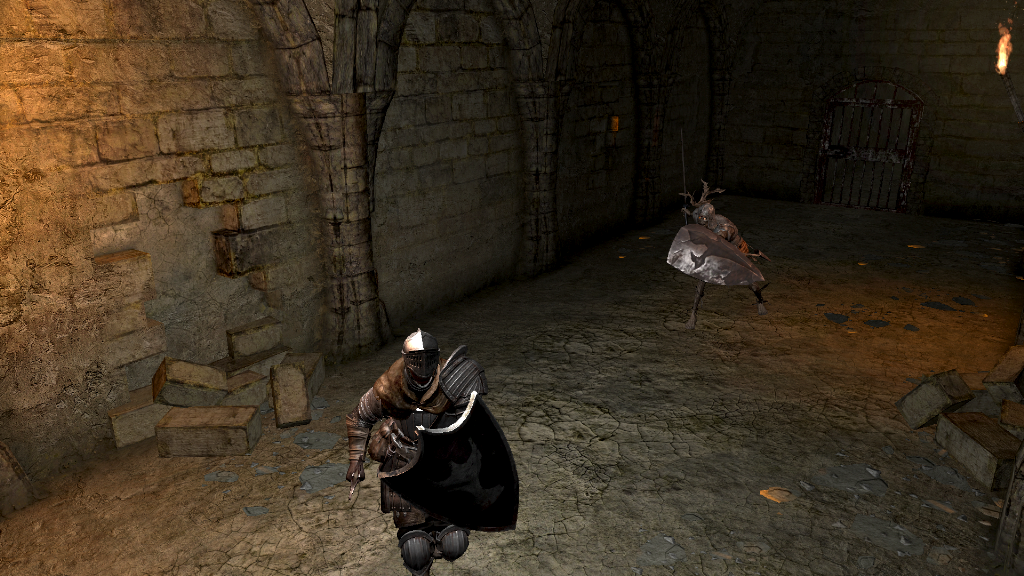player: (347, 326, 521, 576)
undeadSoldier: (664, 198, 769, 330)
